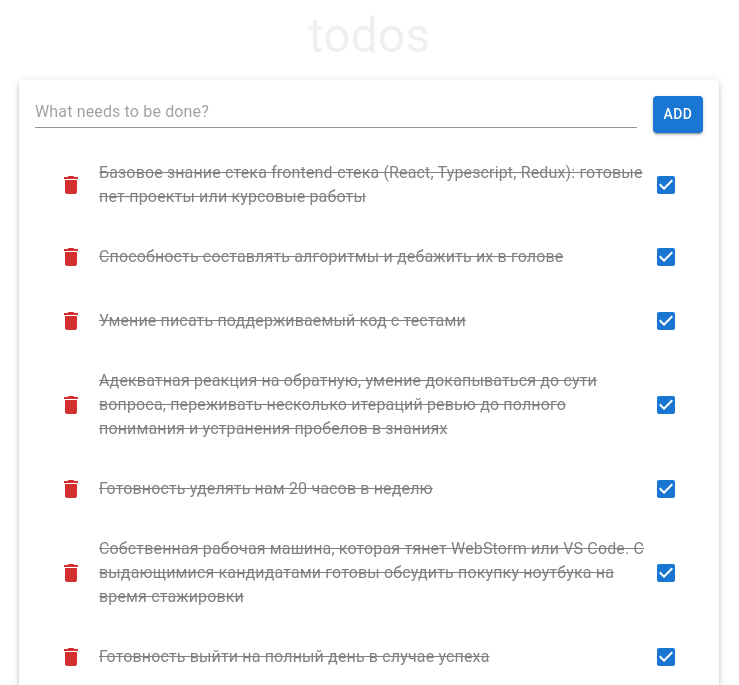
App (ключевая функциональность) › удаляет задачу
This screenshot has width=739, height=685.
Click the 2nd button.
click(71, 184)  # box [51,164,91,204]
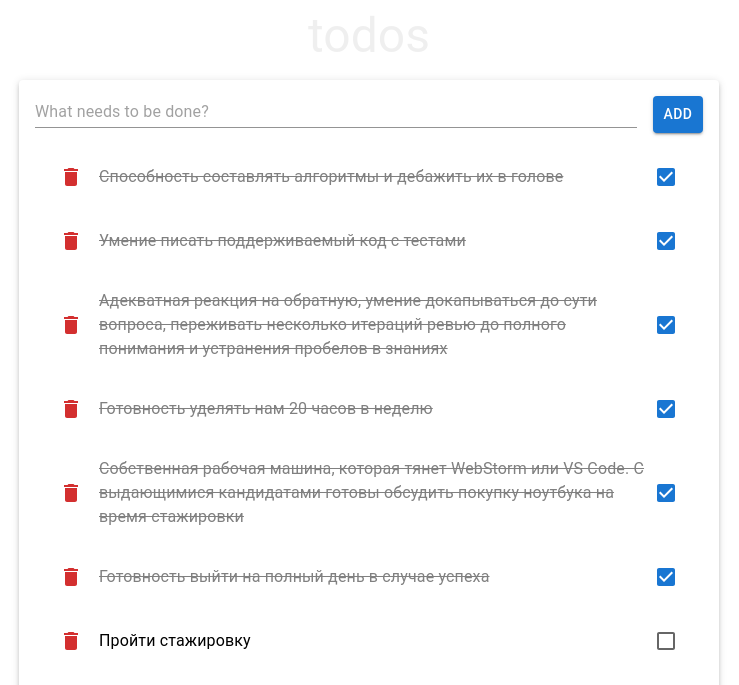
Expected: the text "Базовое знание стека" is gone
